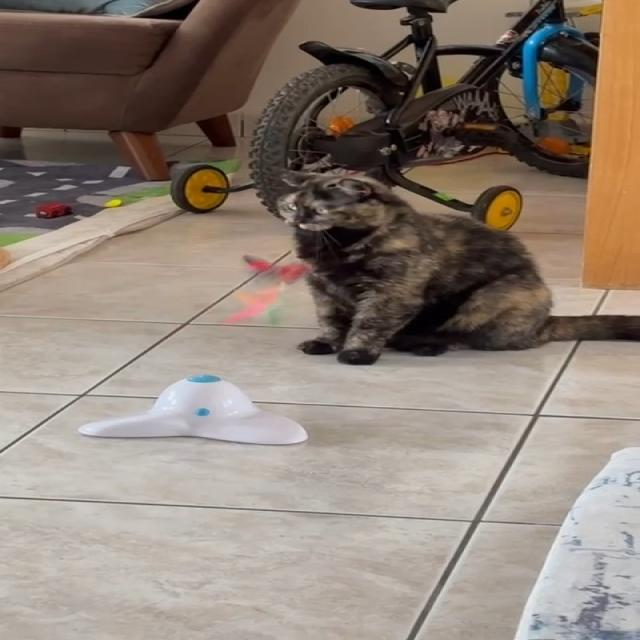authorized: (273, 167, 639, 365)
